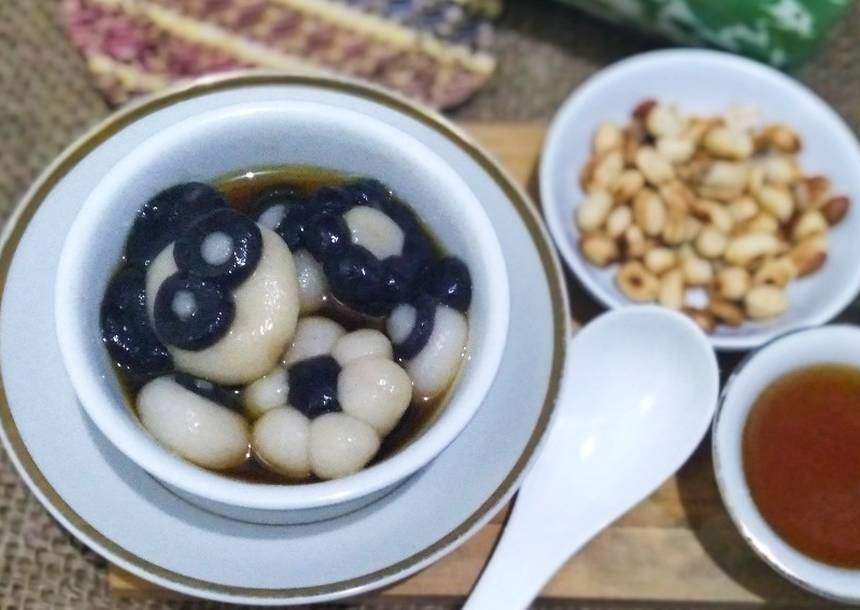ronde: (98, 165, 471, 479)
